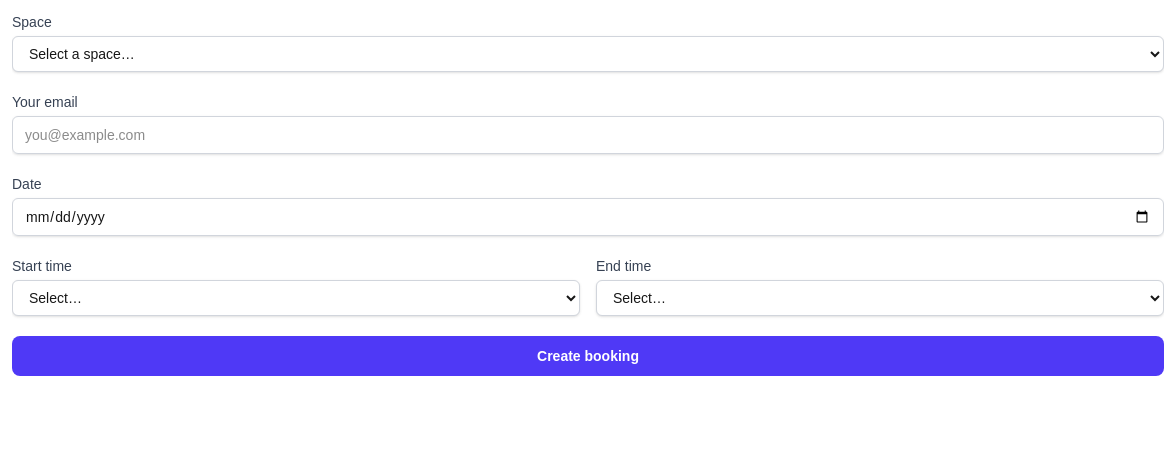
it: CreateBookingForm › shows validation error when space is not selected
The image size is (1176, 473).
Click the button "Create booking" at (588, 356), box [12,336,1164,376]
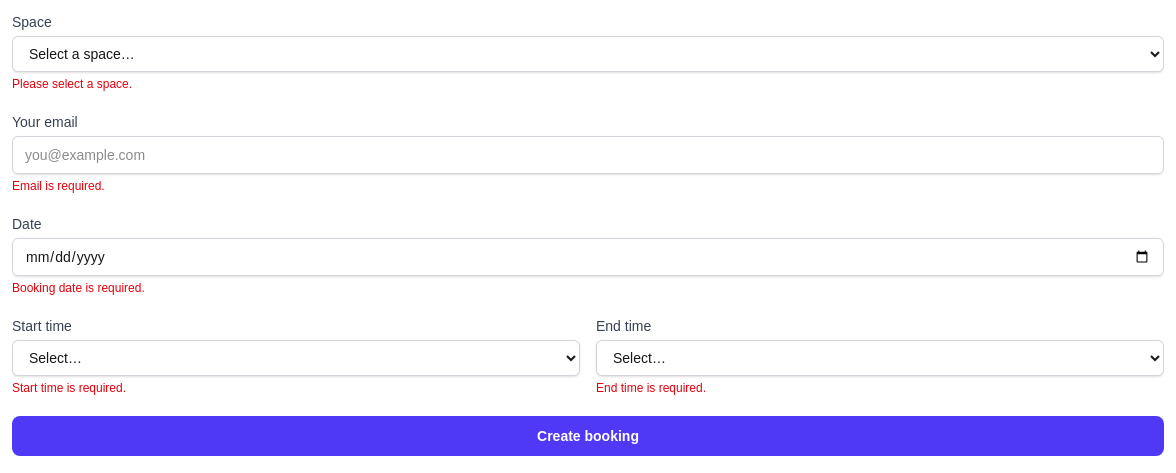
Check: the text "Please select a space." is shown, box [12,77,132,91]
